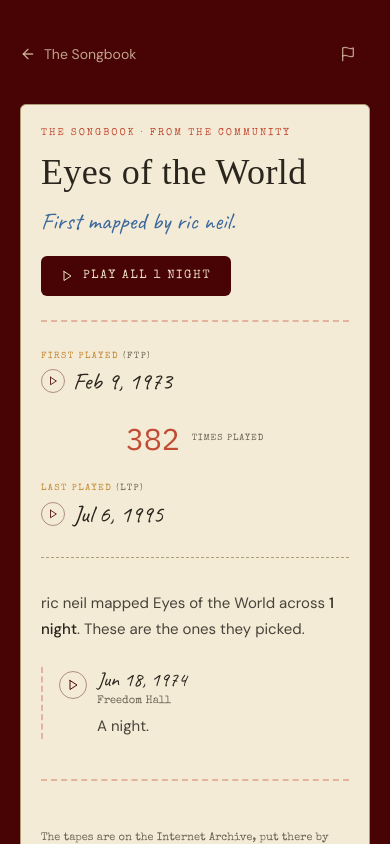
Test: community Songbook issue: report and block › blocks the author, not the viewer, and leaves for the shelf
Click the button named "Report or block". click: (348, 54)
box: x1=326 y1=32 x2=370 y2=76
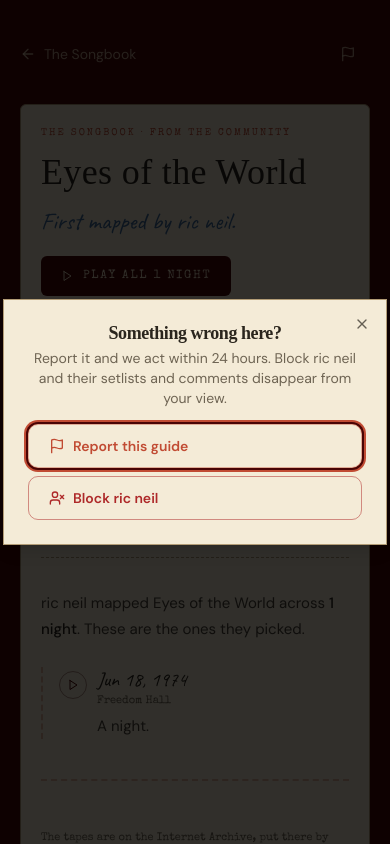
Click the button "Block ric neil". click: (93, 498)
box: x1=28 y1=476 x2=362 y2=520
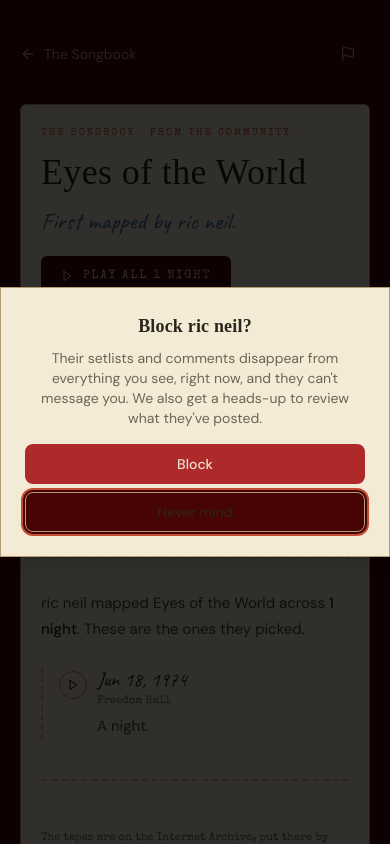
Click the button "Block". click: (195, 464)
box: x1=25 y1=444 x2=365 y2=484
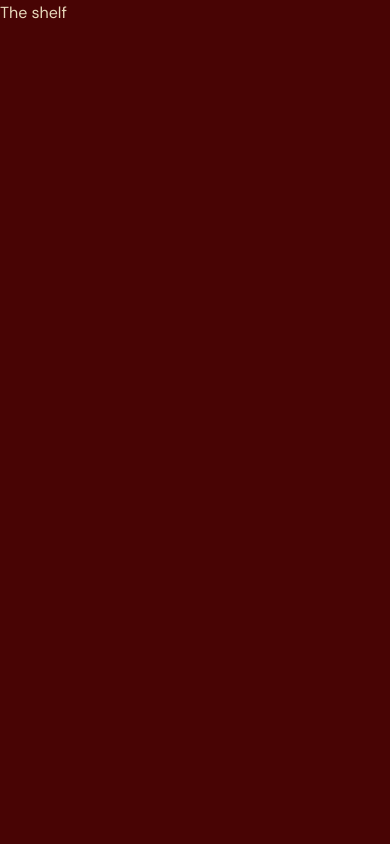
Expected: the text "The shelf" is shown, x1=0 y1=2 x2=67 y2=23
